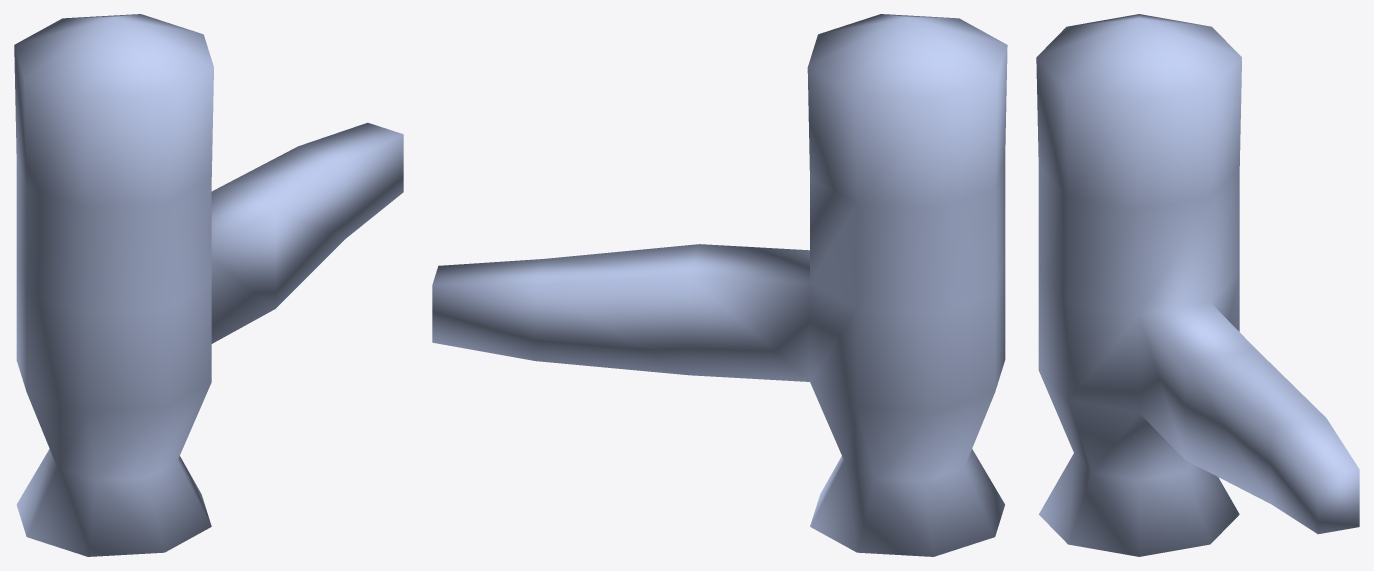
3 renders of one model, left to right at view 1: azimuth 30°, elevation 25°; view 2: azimuth 150°, elevation 25°; view 3: azimuth 270°, elevation 25°, orthographic.
Visible parts, largest first — view 1: Cylinder; view 2: Cylinder; view 3: Cylinder.
Boxes of the visible parts, x1,y1,x2,y2 form: Cylinder: (14, 14, 403, 556); Cylinder: (432, 14, 1007, 556); Cylinder: (1036, 14, 1359, 556).
Size of the model in its own units: 536 by 544 by 322.
